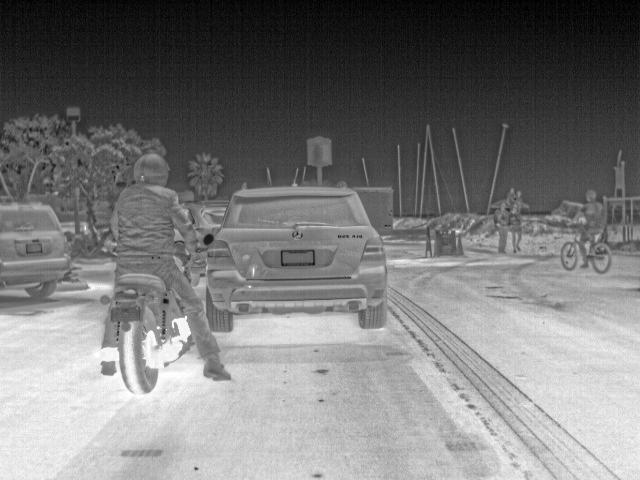car: (204, 180, 383, 331), (2, 201, 77, 297), (180, 200, 228, 240)
person: (101, 151, 234, 381), (574, 189, 609, 271), (493, 201, 513, 256), (507, 201, 527, 252)
